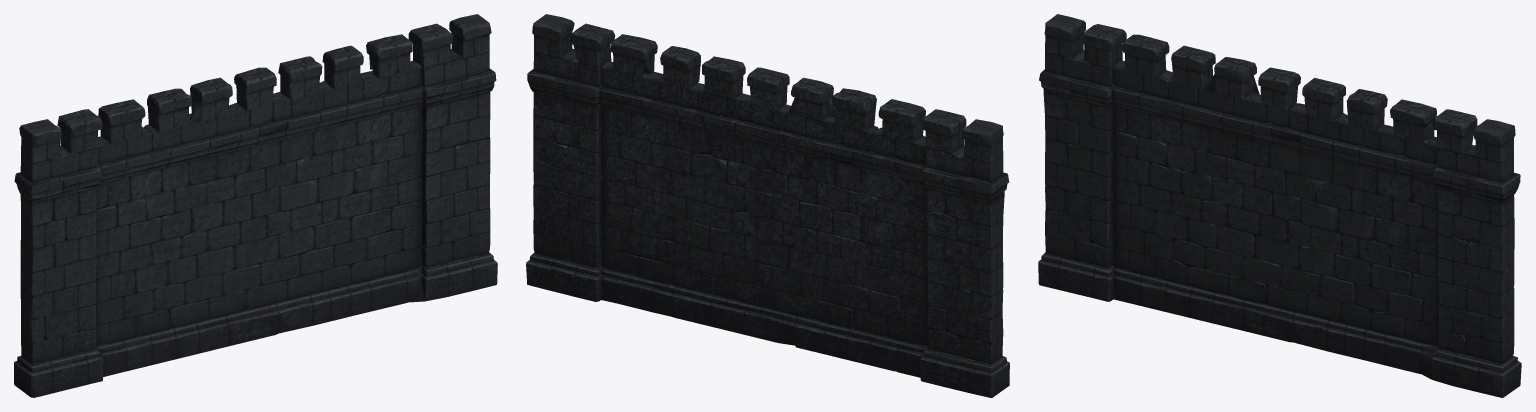
Rendered from wall_segment.glb.
The picture shows the model from 3 angles, left to right: view 1: azimuth 30°, elevation 25°; view 2: azimuth 150°, elevation 25°; view 3: azimuth 330°, elevation 25°; orthographic projection.
Visible parts, largest first — view 1: output_unwrapped; view 2: output_unwrapped; view 3: output_unwrapped.
Boxes of the visible parts, x1,y1,x2,y2 form: output_unwrapped: [14, 14, 497, 397]; output_unwrapped: [526, 14, 1009, 397]; output_unwrapped: [1038, 14, 1521, 397].
Bounding box in the file's own units: 1.9 × 1.02 × 0.1349.
Materials: 1 (1 with a texture image).
